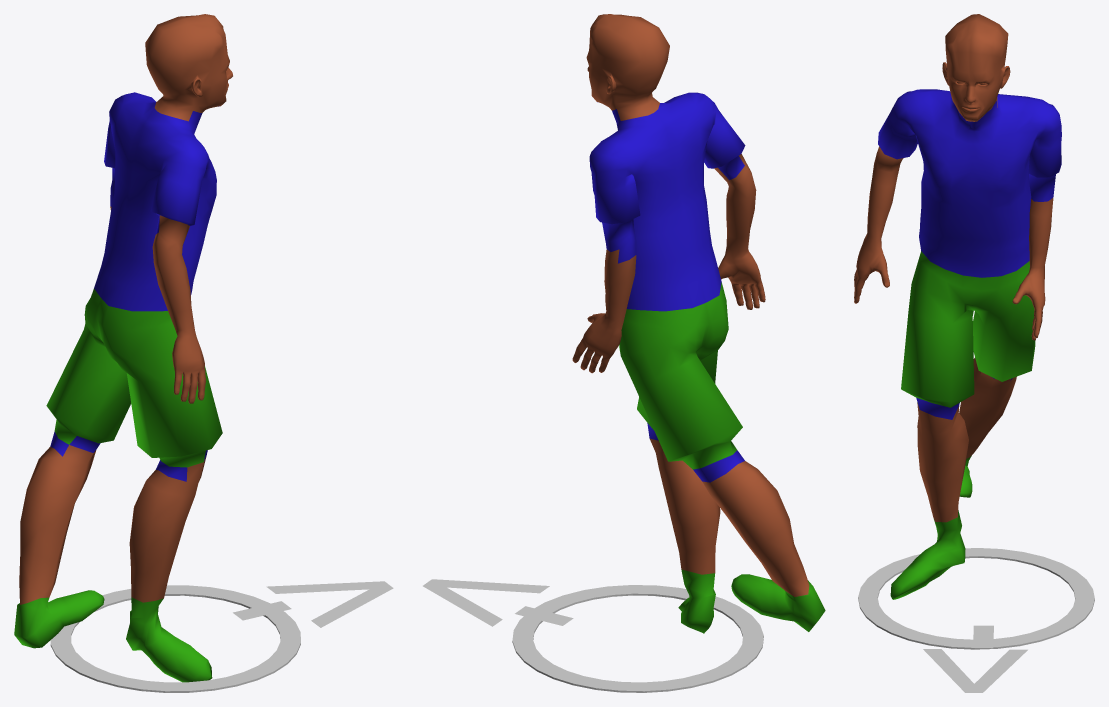
File: player_000032.obj
3 renders of one model, left to right at view 1: azimuth 30°, elevation 25°; view 2: azimuth 150°, elevation 25°; view 3: azimuth 270°, elevation 25°, orthographic. The views are drawn at different scales.
Parts seen in each view (by area): view 1: soccerplayer.003_mesh.002, Circle.001, Text_Mesh; view 2: soccerplayer.003_mesh.002, Circle.001, Text_Mesh; view 3: soccerplayer.003_mesh.002, Circle.001, Text_Mesh.
Boxes of the visible parts, x1,y1,x2,y2 form: soccerplayer.003_mesh.002: (14, 14, 232, 682); Circle.001: (50, 585, 300, 692); Text_Mesh: (233, 581, 393, 627); soccerplayer.003_mesh.002: (572, 14, 825, 633); Circle.001: (512, 585, 763, 692); Text_Mesh: (423, 579, 573, 626); soccerplayer.003_mesh.002: (854, 14, 1061, 599); Circle.001: (858, 548, 1094, 649); Text_Mesh: (923, 625, 1027, 692).
Size of the model in its own units: 5.51 by 8.65 by 3.19.
